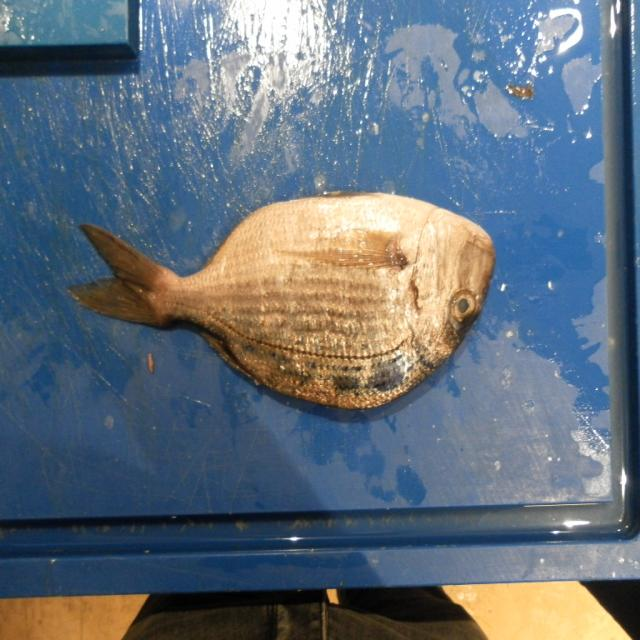Red-Sea-Bream-mercan-: (67, 192, 497, 415)
